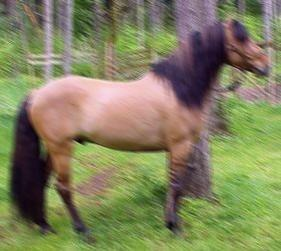horse: (7, 12, 272, 240)
